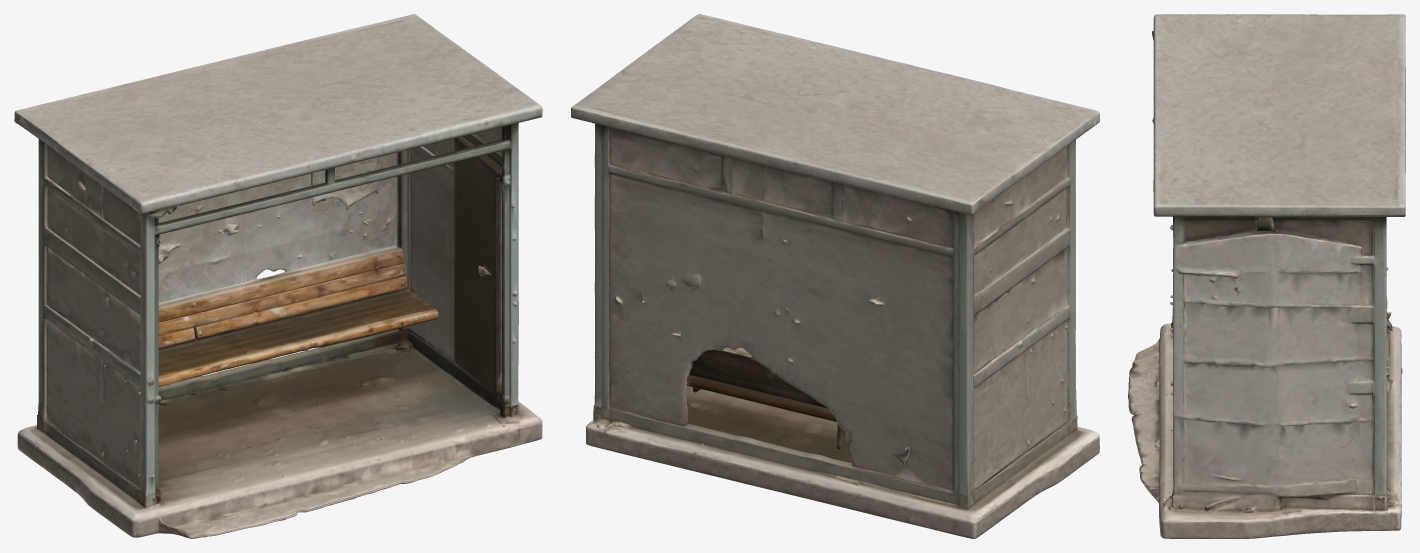
Rendered from shelter.glb.
3 renders of one model, left to right at view 1: azimuth 30°, elevation 25°; view 2: azimuth 150°, elevation 25°; view 3: azimuth 270°, elevation 25°, orthographic.
Parts seen in each view (by area): view 1: tripo_node_1c804fab-284a-48cb-bcb1-0df99894f8df; view 2: tripo_node_1c804fab-284a-48cb-bcb1-0df99894f8df; view 3: tripo_node_1c804fab-284a-48cb-bcb1-0df99894f8df.
Boxes of the visible parts, bbox=[...] form: tripo_node_1c804fab-284a-48cb-bcb1-0df99894f8df: bbox=[14, 14, 542, 538]; tripo_node_1c804fab-284a-48cb-bcb1-0df99894f8df: bbox=[571, 14, 1099, 538]; tripo_node_1c804fab-284a-48cb-bcb1-0df99894f8df: bbox=[1128, 14, 1405, 538].
Size of the model in its own units: 0.9811 by 0.772 by 0.5826.
1 material, 1 textured.
